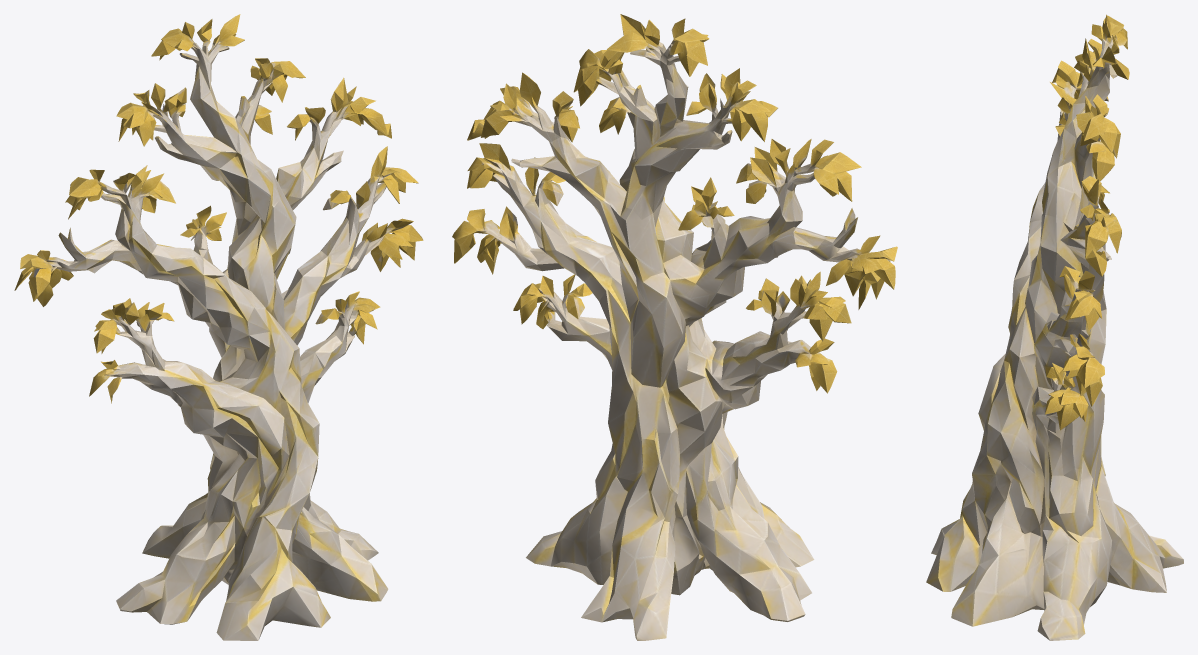
The model's file is court-tree.glb.
3 renders of one model, left to right at view 1: azimuth 30°, elevation 25°; view 2: azimuth 150°, elevation 25°; view 3: azimuth 270°, elevation 25°, orthographic. The views are drawn at different scales.
Parts seen in each view (by area): view 1: output_unwrapped; view 2: output_unwrapped; view 3: output_unwrapped.
Boxes of the visible parts, x1,y1,x2,y2 form: output_unwrapped: (14, 14, 423, 640); output_unwrapped: (452, 14, 897, 640); output_unwrapped: (926, 14, 1183, 640).
Bounding box in the file's own units: 1.48 × 1.9 × 0.8136.
1 material, 1 textured.
